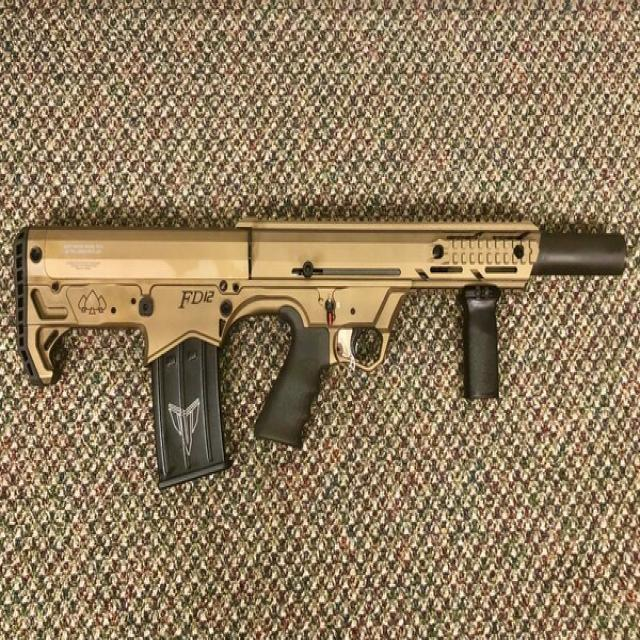ShotGun: (13, 221, 630, 492)
